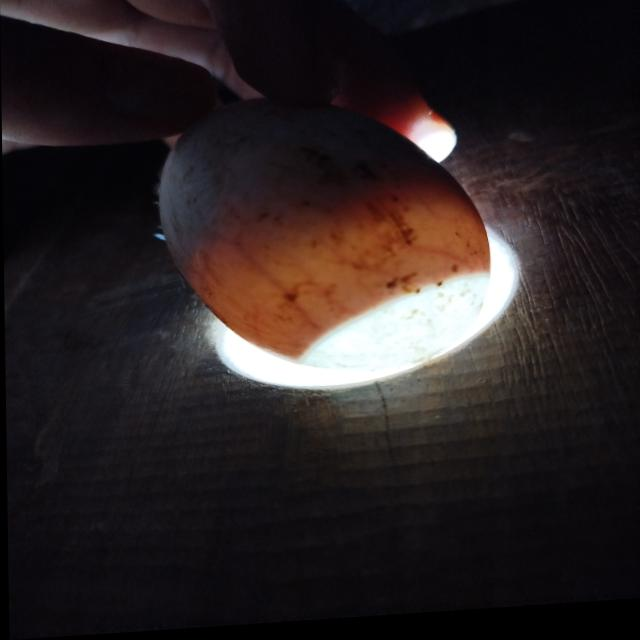Embriao: (159, 105, 458, 285)
